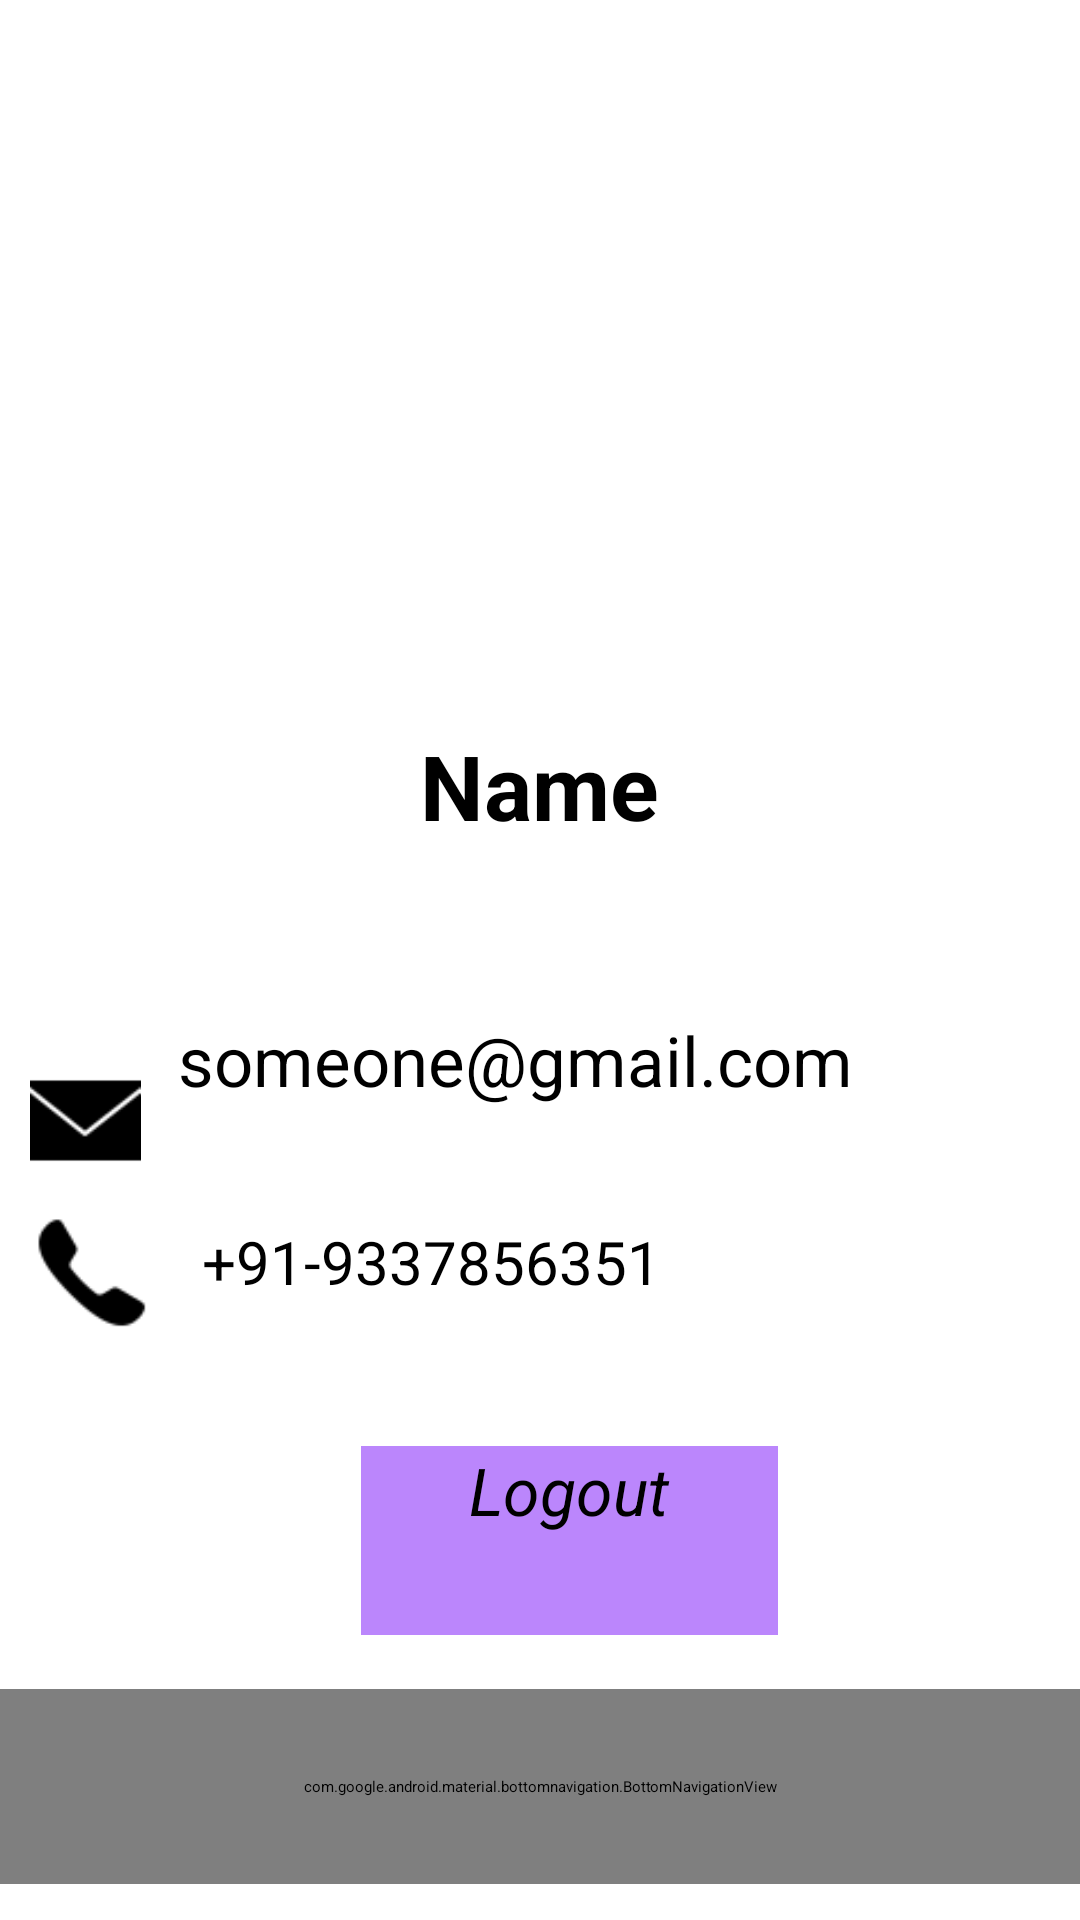

Icon bounding boxes for this 1080 x 1920 phone screenshot, format bbox=[x1, y1, x2, y2]:
iconsmail: bbox=[30, 1080, 141, 1161]
iconsphone: bbox=[38, 1219, 146, 1327]
